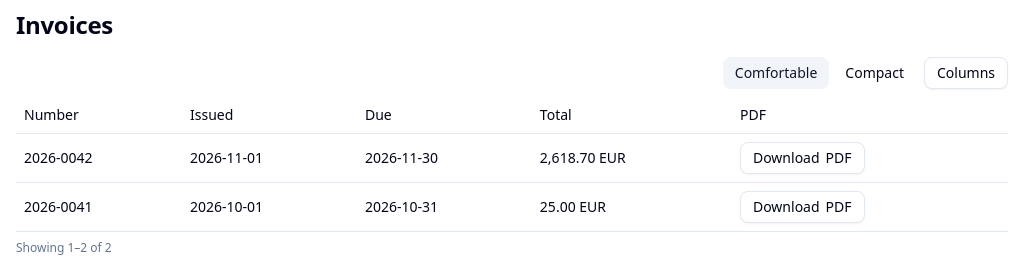
Test: a download that failed has no accessibility violations axe can find
Click the button named "Download invoice 2026-0042 as PDF": x=802, y=158 [740, 142, 865, 174]
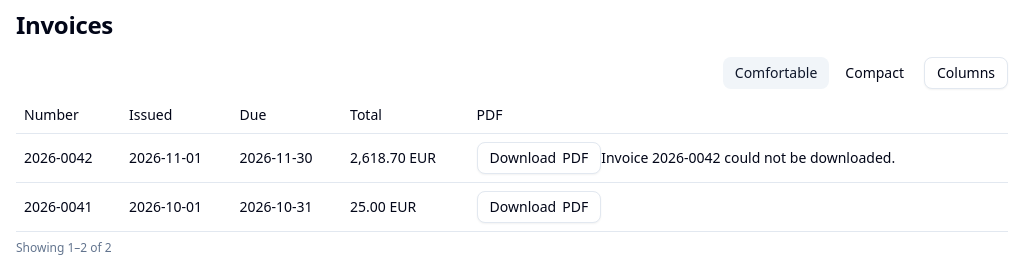
Check: the message "Invoice 2026-0042 could not be downloaded." is shown, box [601, 148, 895, 167]
